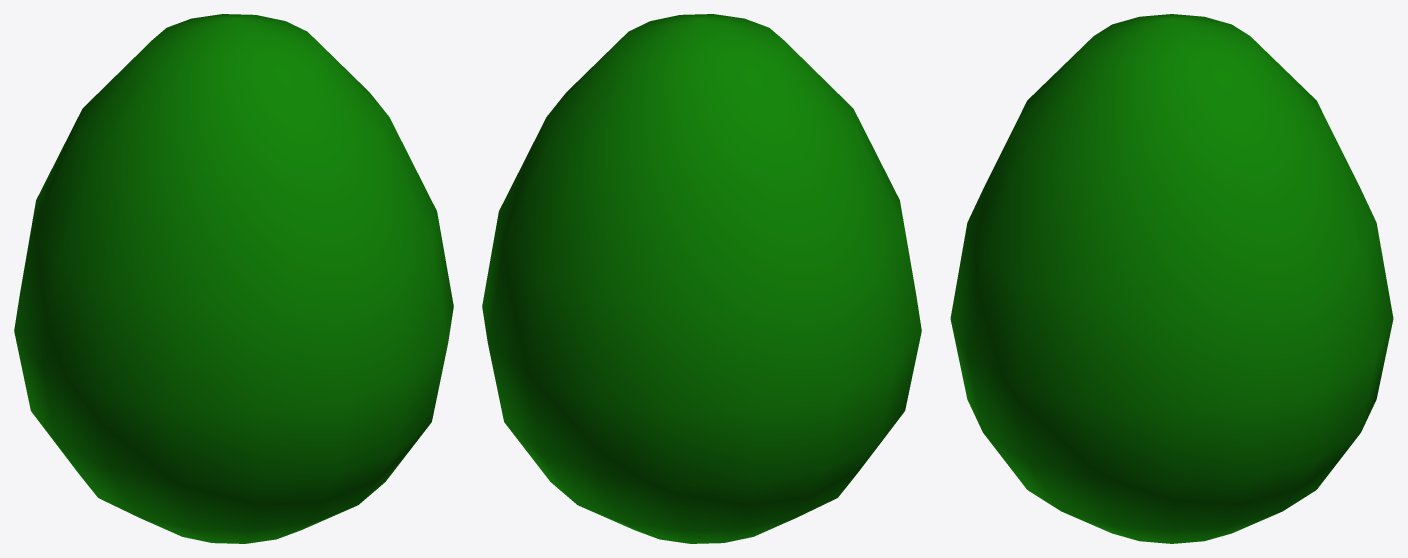
The model's file is eggGreen01.fbx.
3 renders of one model, left to right at view 1: azimuth 30°, elevation 25°; view 2: azimuth 150°, elevation 25°; view 3: azimuth 270°, elevation 25°, orthographic.
Parts seen in each view (by area): view 1: Sphere004; view 2: Sphere004; view 3: Sphere004.
Part boxes in pixels (box(x1,y1,x2,y2)): Sphere004: box(14, 14, 453, 543); Sphere004: box(482, 14, 921, 543); Sphere004: box(950, 14, 1393, 543).
Bounding box in the file's own units: 5.52 × 6.93 × 5.52.
